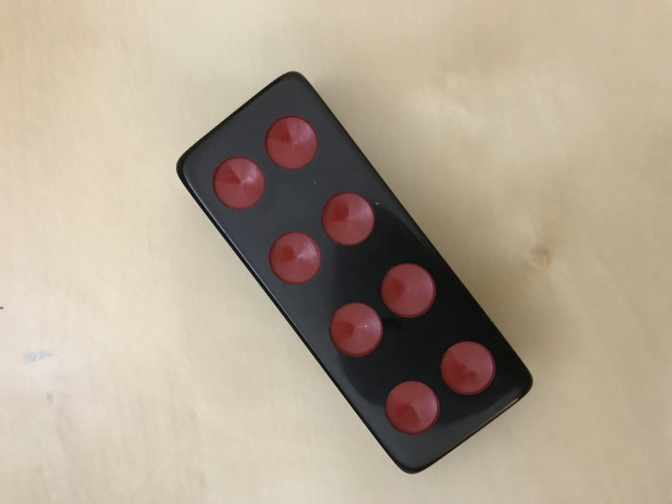man: (175, 71, 535, 474)
